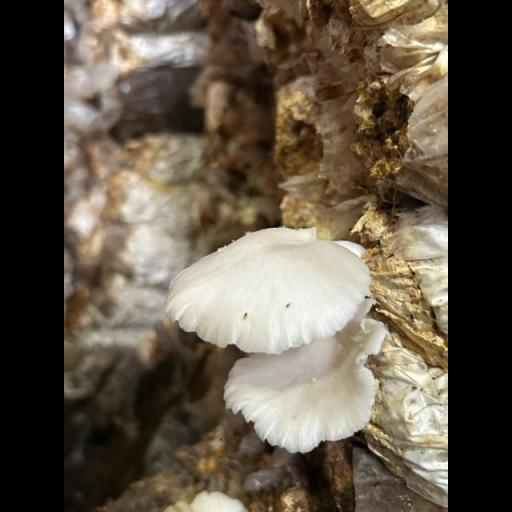White Oyster Mushroom: (163, 224, 383, 450)
